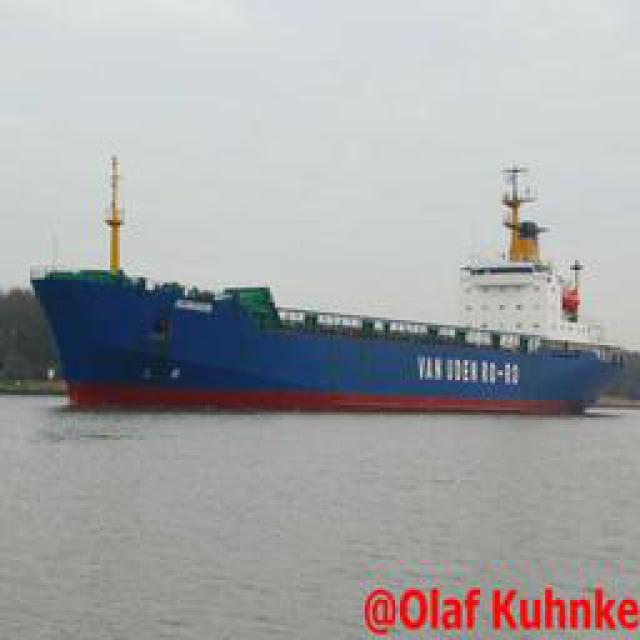Ship: (47, 230, 635, 420)
